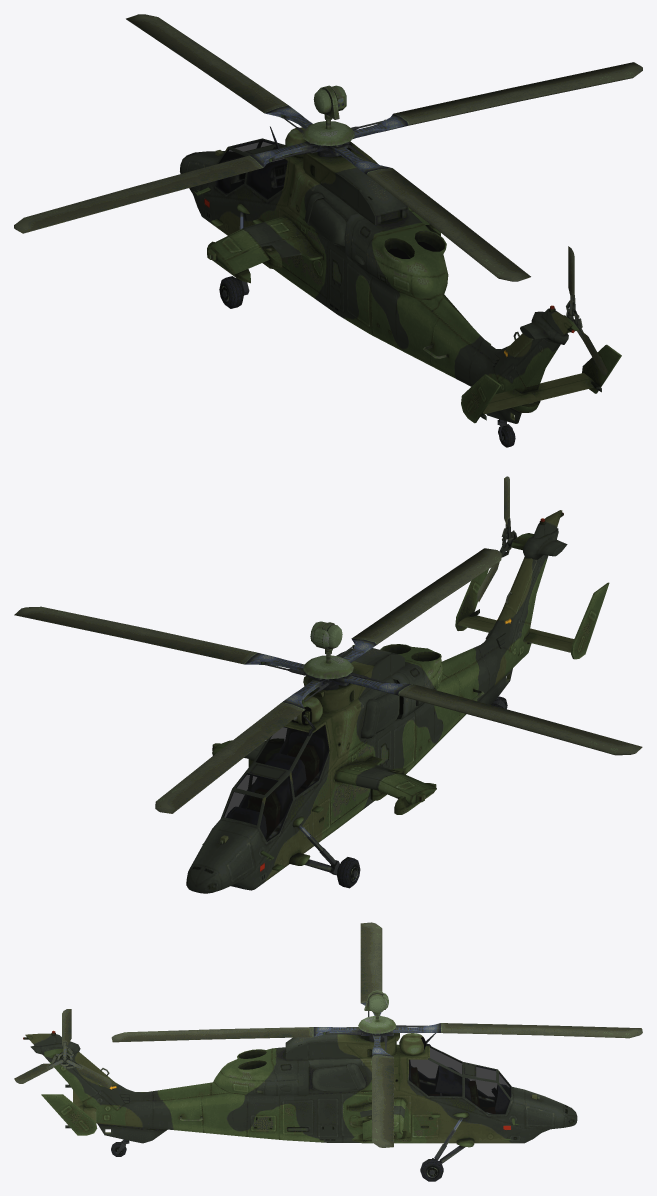
The model's file is drive_tiger.glb.
3 renders of one model, top to bottom at view 1: azimuth 30°, elevation 25°; view 2: azimuth 150°, elevation 25°; view 3: azimuth 270°, elevation 25°, orthographic. The views are drawn at different scales.
Parts seen in each view (by area): view 1: mesh_389_mat_40_0, rotor_main, mesh_394_mat_43_0, rotor_tail; view 2: mesh_389_mat_40_0, rotor_main, mesh_394_mat_43_0, rotor_tail; view 3: mesh_389_mat_40_0, rotor_main, mesh_394_mat_43_0, rotor_tail.
Boxes of the visible parts, x1,y1,x2,y2 form: mesh_389_mat_40_0: (180, 85, 621, 447); rotor_main: (14, 14, 642, 281); mesh_394_mat_43_0: (215, 139, 287, 199); rotor_tail: (485, 249, 621, 385); mesh_389_mat_40_0: (186, 476, 609, 893); rotor_main: (14, 548, 642, 813); mesh_394_mat_43_0: (223, 725, 329, 841); rotor_tail: (499, 477, 608, 593); mesh_389_mat_40_0: (23, 990, 577, 1181); rotor_main: (111, 922, 642, 1147); mesh_394_mat_43_0: (409, 1047, 511, 1114); rotor_tail: (14, 1011, 81, 1094).
Size of the model in its own units: 12.99 by 4.52 by 15.37.
Materials: 2 (2 with a texture image).
